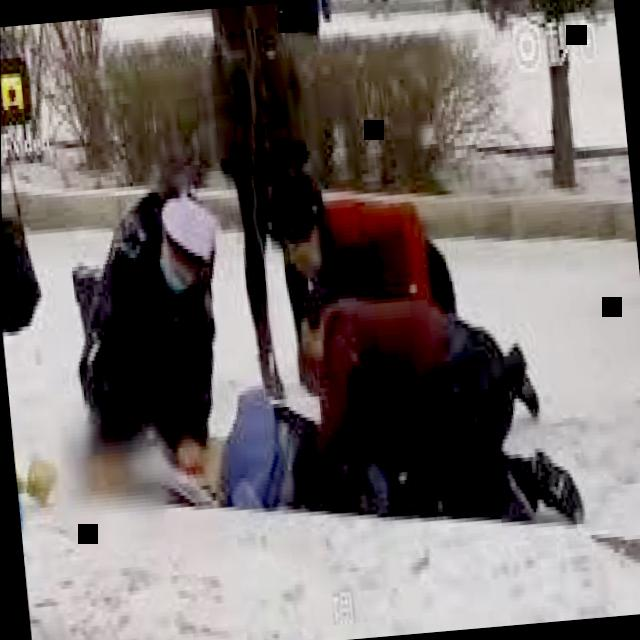Fall-Detected: (152, 368, 567, 536)
